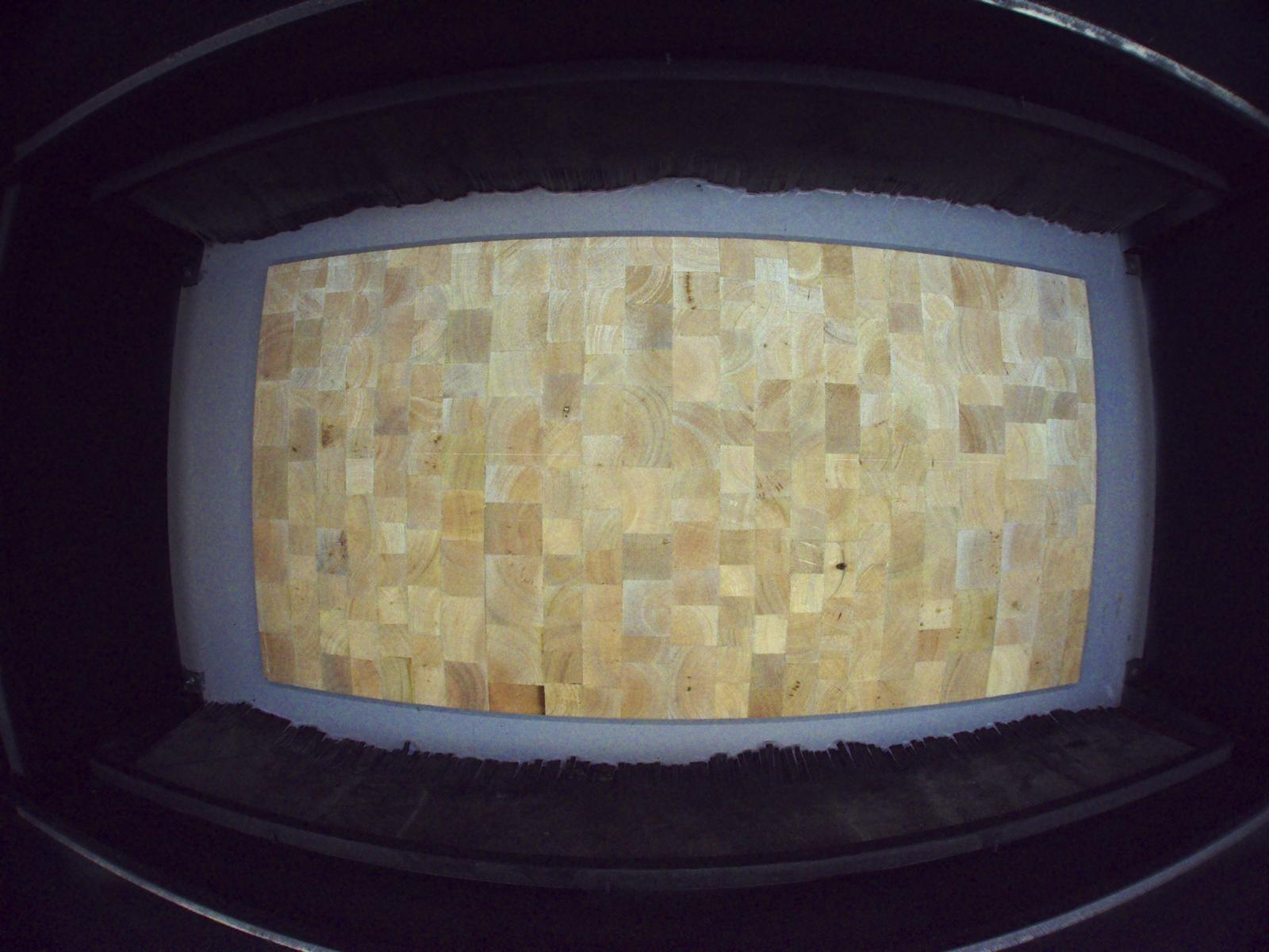sheck_ecuatoriano: (832, 545, 848, 597)
